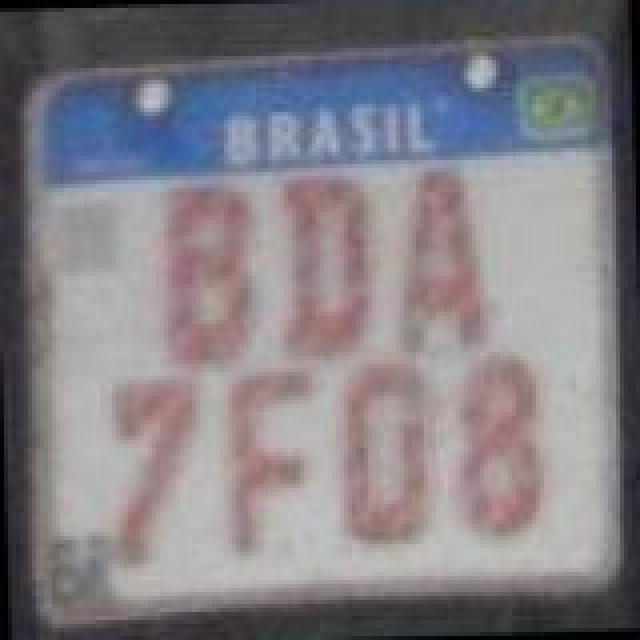7: (106, 376, 206, 568)
8: (446, 352, 546, 544)
A: (390, 160, 490, 360)
B: (152, 176, 264, 368)
D: (274, 172, 382, 372), (334, 360, 434, 552)
F: (218, 364, 318, 556)
